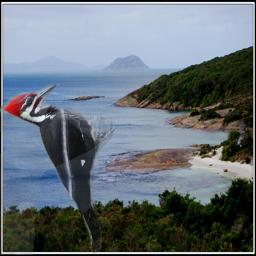Woodpecker: (0, 84, 116, 255)
